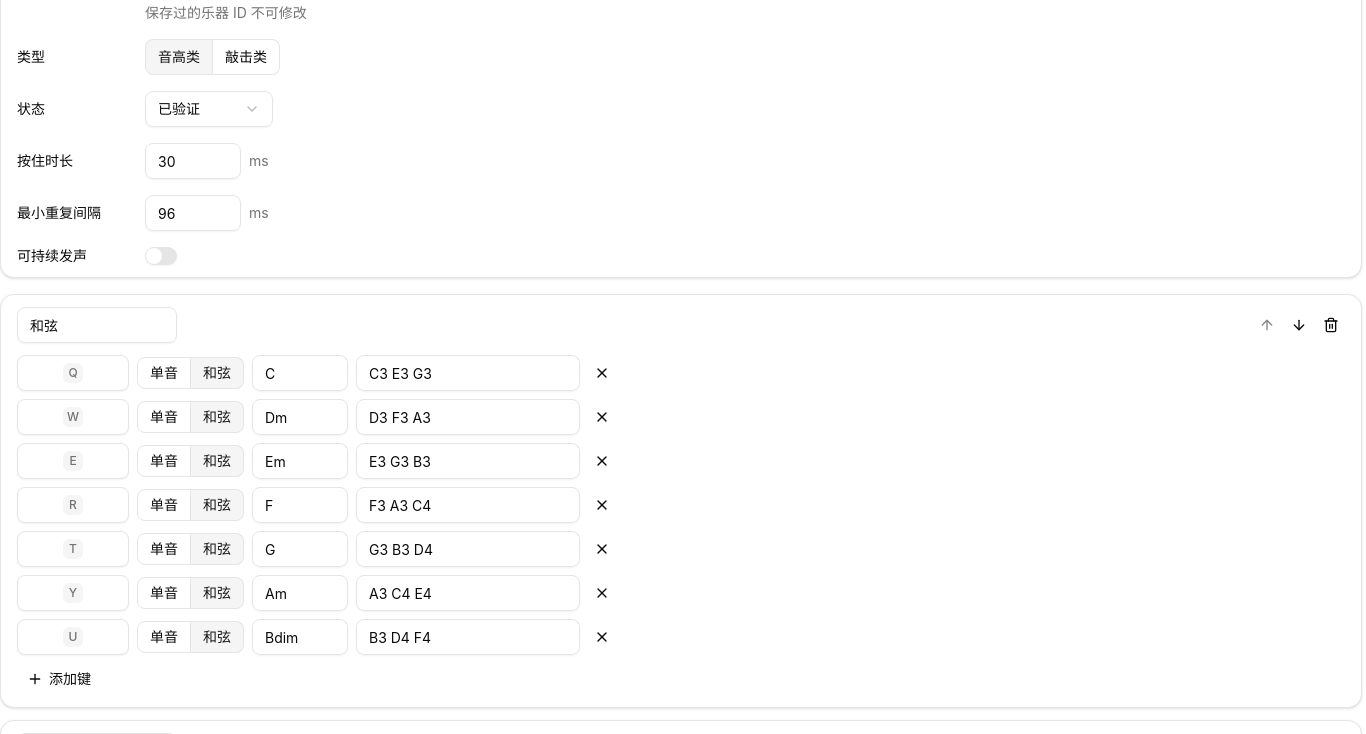
InstrumentEditor › 和弦键显示和弦名与构成音输入，切换为单音后清空和弦字段
(page scrolled)
Check: the field named "第 1 行第 1 个键的和弦名" holds "C", box 252,355 -> 348,391
# 修改构成音：乱序输入自动排序去重后提交
Replace the text in the field named "第 1 行第 1 个键的和弦构成音" with "60 64 67 64" at point(468, 373), box 356,355 -> 580,391
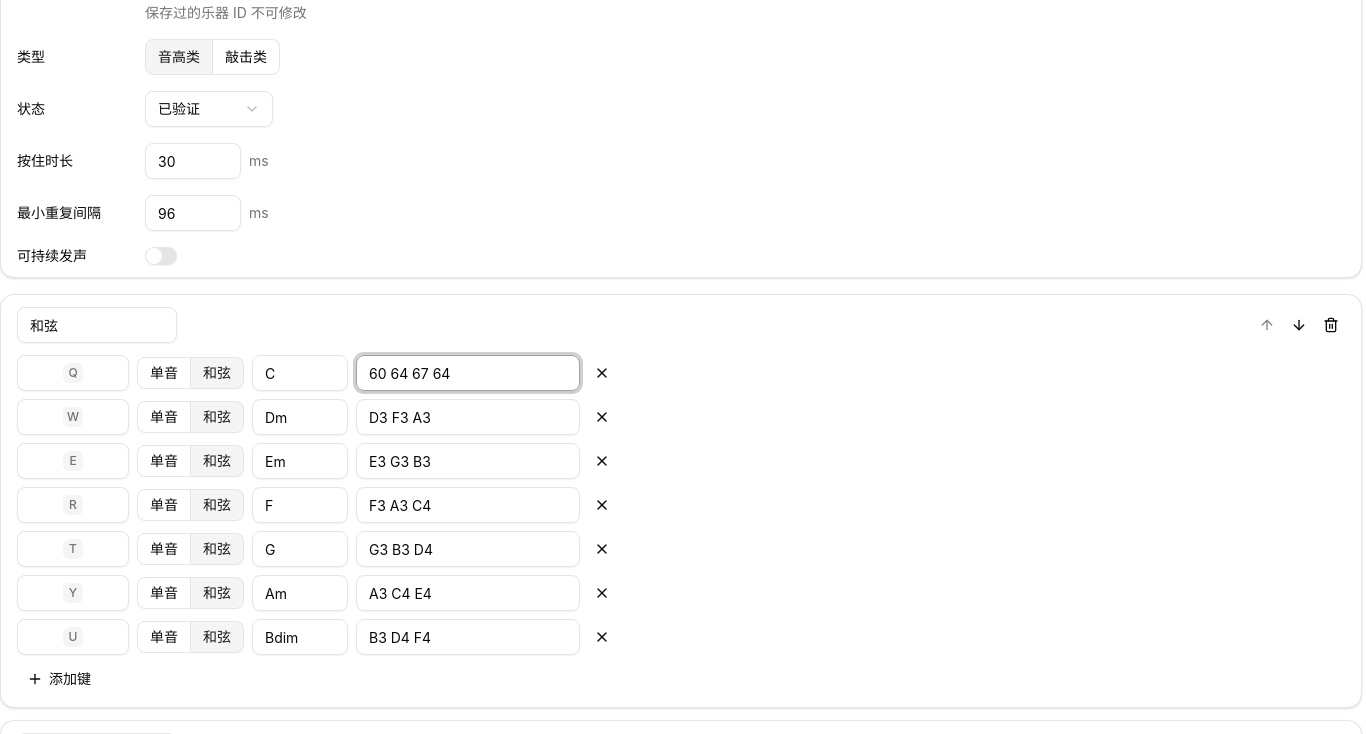
Leave the field named "第 1 行第 1 个键的和弦构成音", box 356,355 -> 580,391
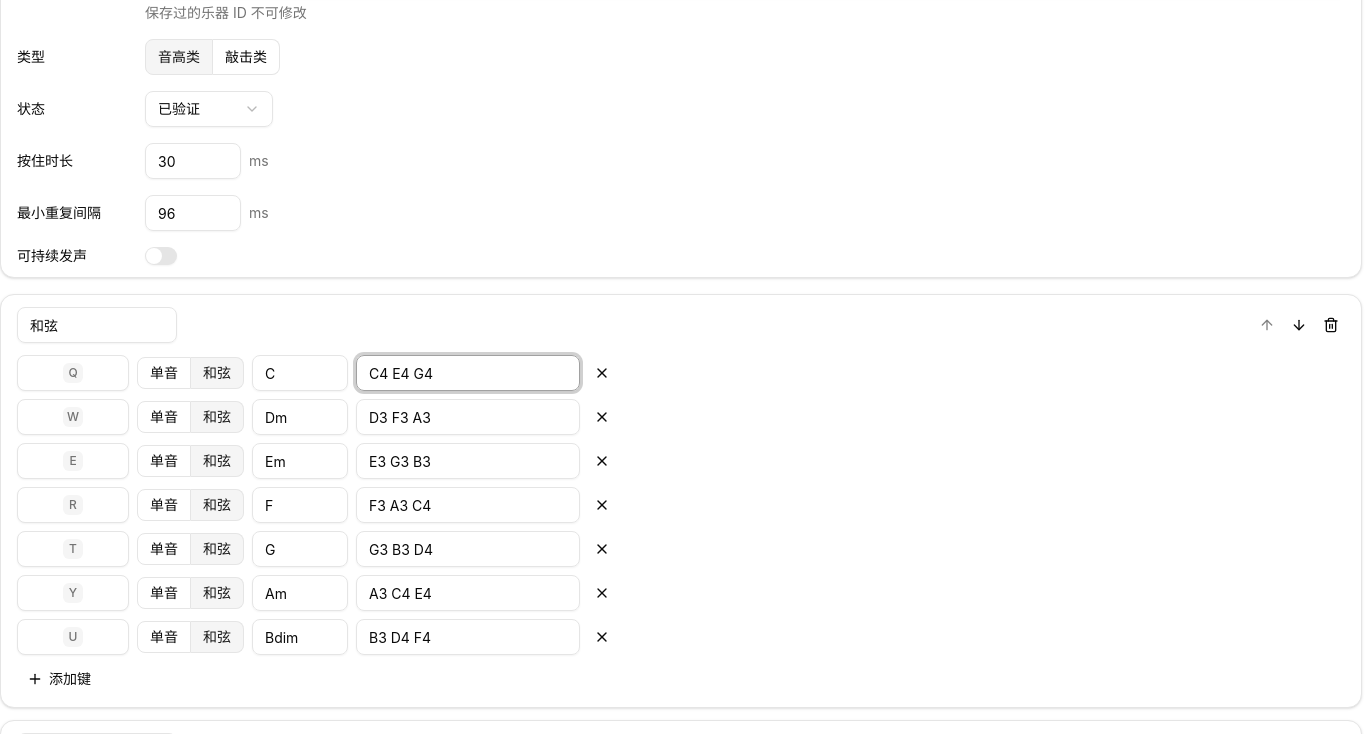
Check: the field named "第 1 行第 1 个键的和弦构成音" holds "C4 E4 G4", box 356,355 -> 580,391
# 切回单音：和弦字段消失，音高输入出现
Click the 1st radio button "单音" at point(164, 373), box 137,357 -> 191,389
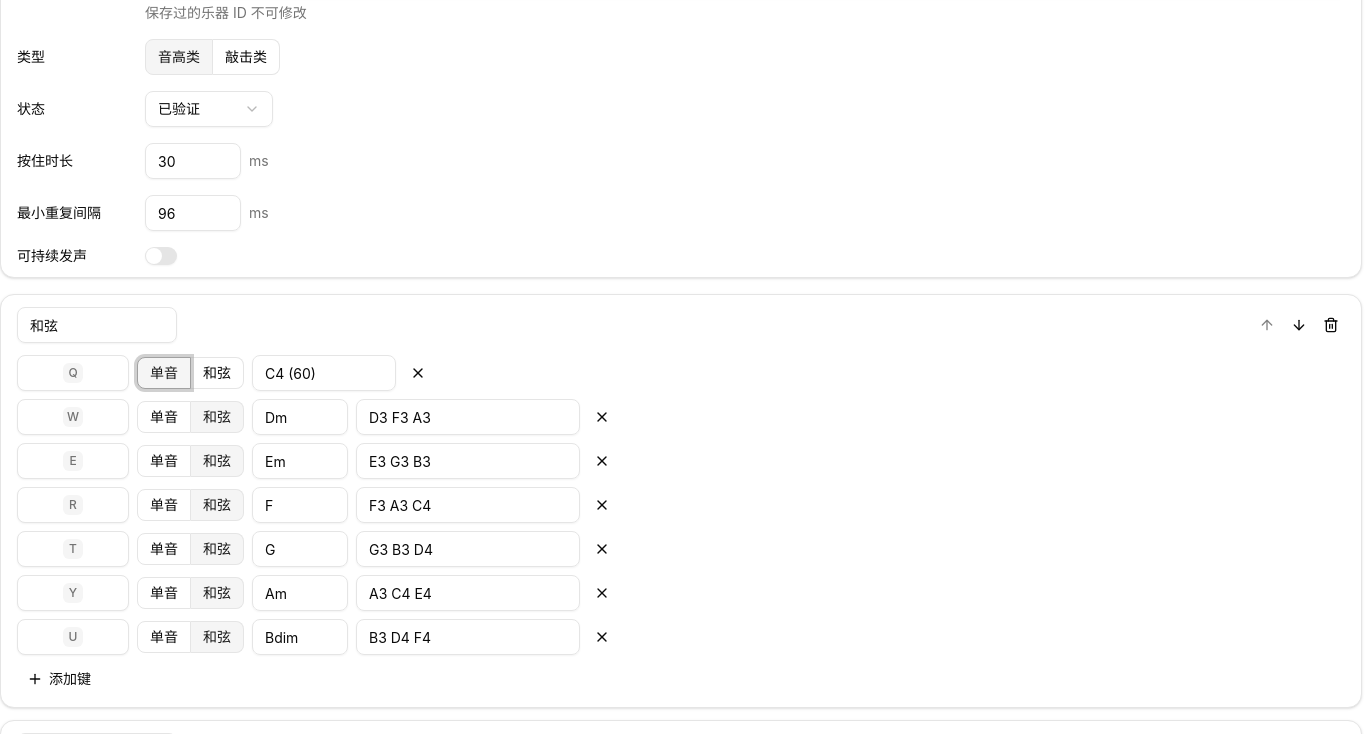
Check: the field named "第 1 行第 1 个键的音高" holds "C4 (60)", box 252,355 -> 396,391
